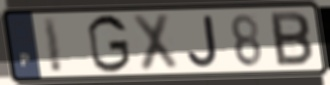8: (229, 12, 264, 68)
B: (268, 10, 315, 69)
G: (85, 13, 133, 75)
I: (40, 15, 65, 75)
J: (185, 13, 221, 69)
X: (130, 11, 181, 74)
